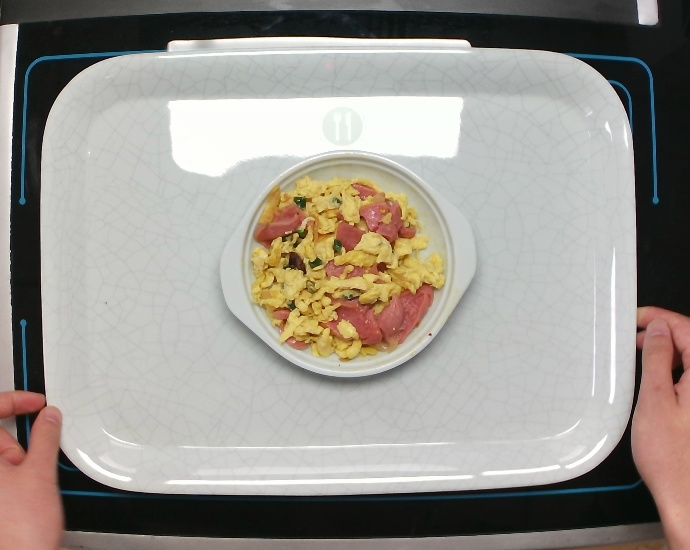JYsf-Shuang_Er_Pan: (209, 145, 489, 387)
